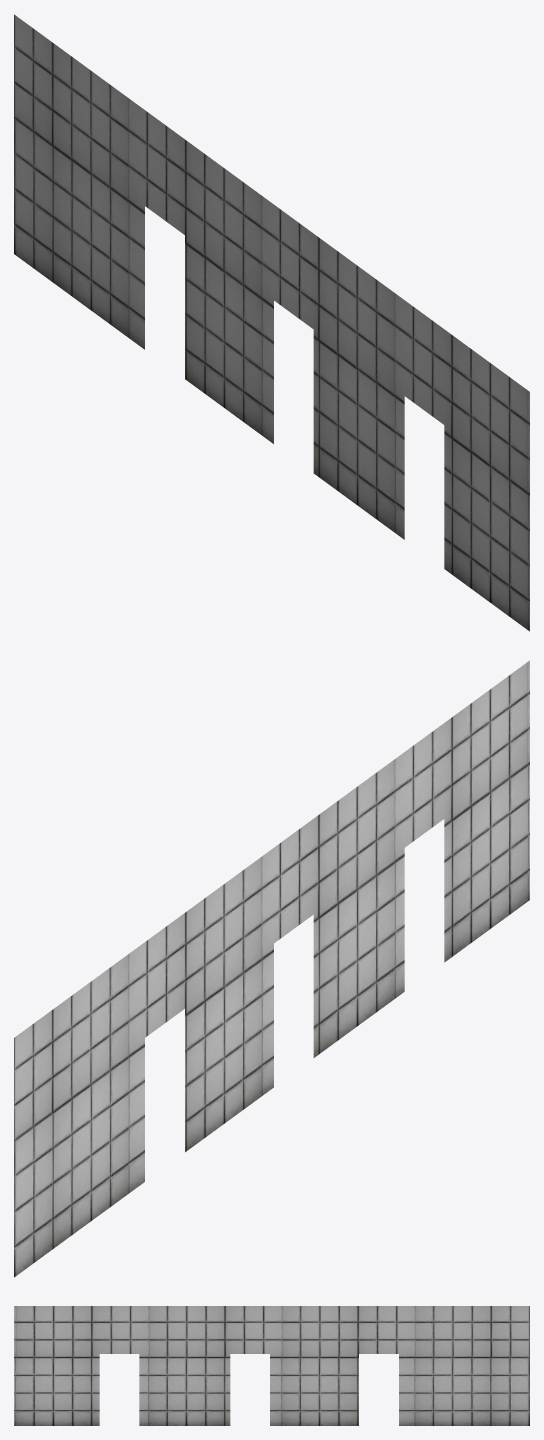
File: asylum_wall_room_hole.glb
The picture shows the model from 3 angles, top to bottom: view 1: azimuth 30°, elevation 25°; view 2: azimuth 150°, elevation 25°; view 3: azimuth 270°, elevation 25°; orthographic projection. The views are drawn at different scales.
Visible parts, largest first — view 1: Piano.005; view 2: Piano.005; view 3: Piano.005.
Part boxes in pixels (<box>): Piano.005: <box>14,14,529,631</box>; Piano.005: <box>14,660,529,1277</box>; Piano.005: <box>14,1306,529,1425</box>.
Bounding box in the file's own units: 1.11e-15 × 5 × 19.5.
1 material, 1 textured.
